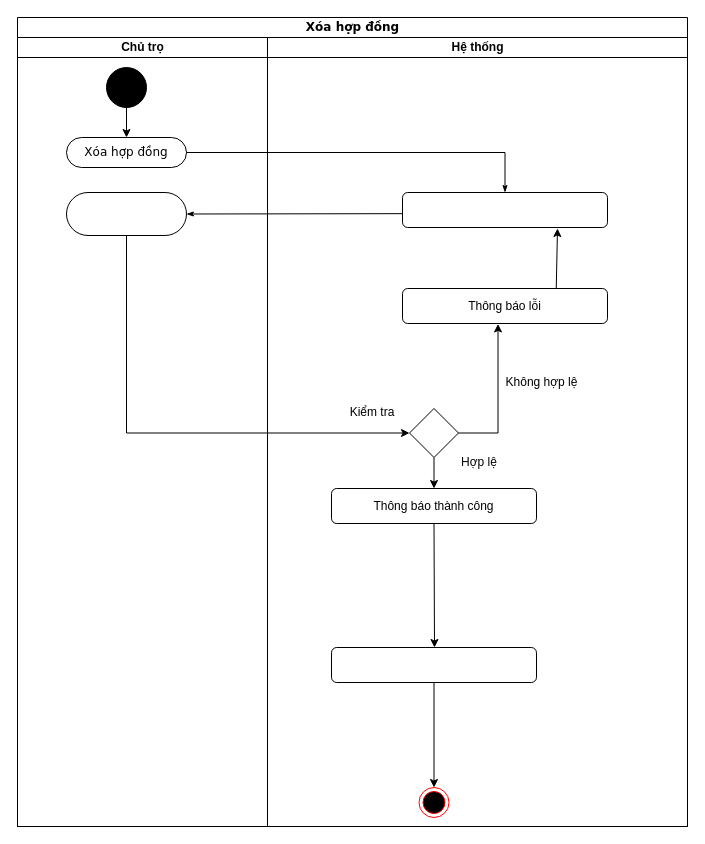
The diagram is 705 pixels wide and 844 high, and some of its shapes have lost their labels. The centre of each missing label's shape, as x and y in pixels:
Chuyển màn hình danh sách hợp đồng: the point at 433,664
Xác nhận: the point at 126,214
Yêu cầu xác nhận: the point at 505,210
